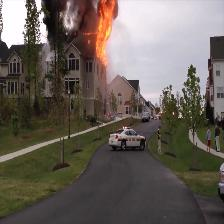fire: (97, 8, 111, 62)
smoke: (44, 1, 72, 42)
